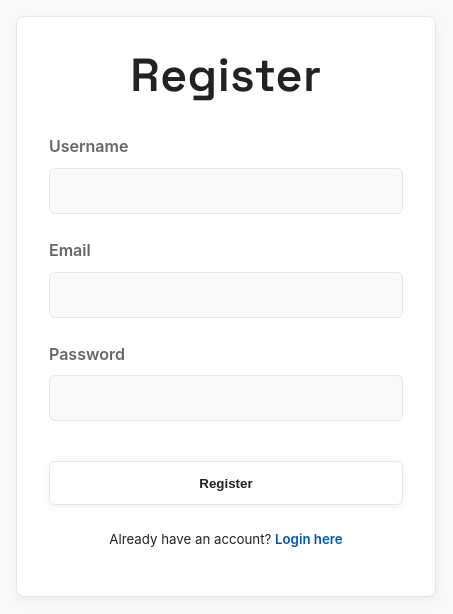
UserRegisterPage › should disable button on submit
The width and height of the screenshot is (453, 614).
Type "testuser" into the field labelled "Username" at [226, 191], box [49,168,403,214]
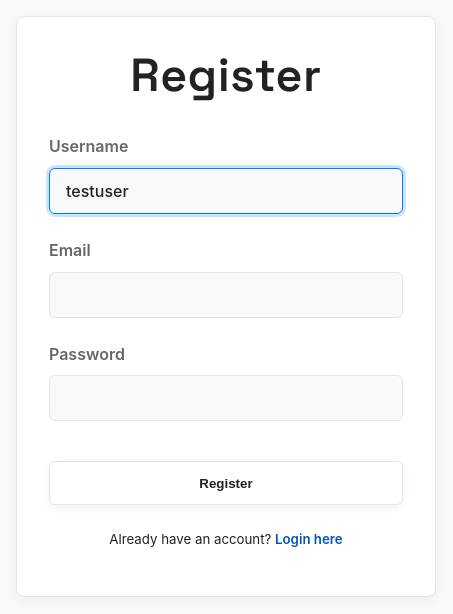
Type "test@example.com" into the field labelled "Email" at [226, 294], box [49,272,403,318]
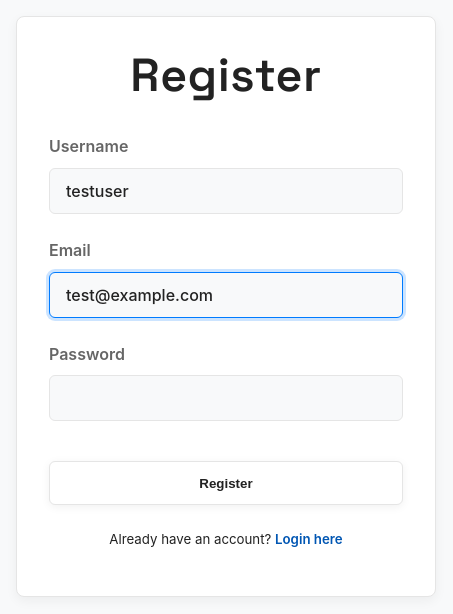
Type "password123" into the password field labelled "Password" at [226, 398], box [49,375,403,421]
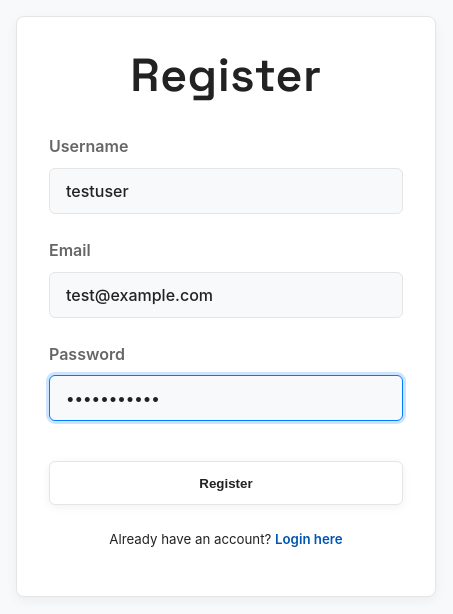
Click the button "Register" at [226, 483], box [49,461,403,505]
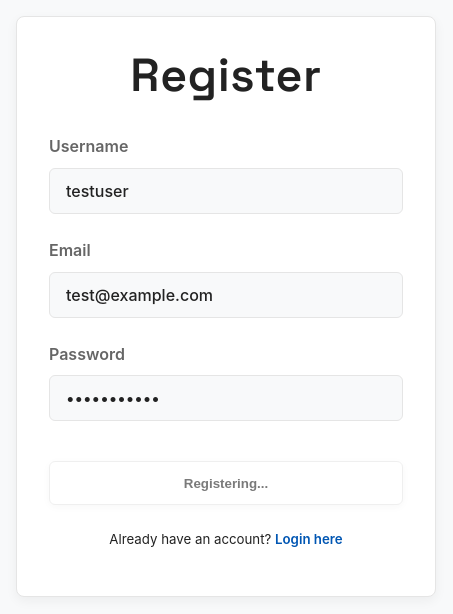
Result: the button "Registering..." is disabled at [49,461,403,505]
Result: the button "Registering..." is shown at [49,461,403,505]
